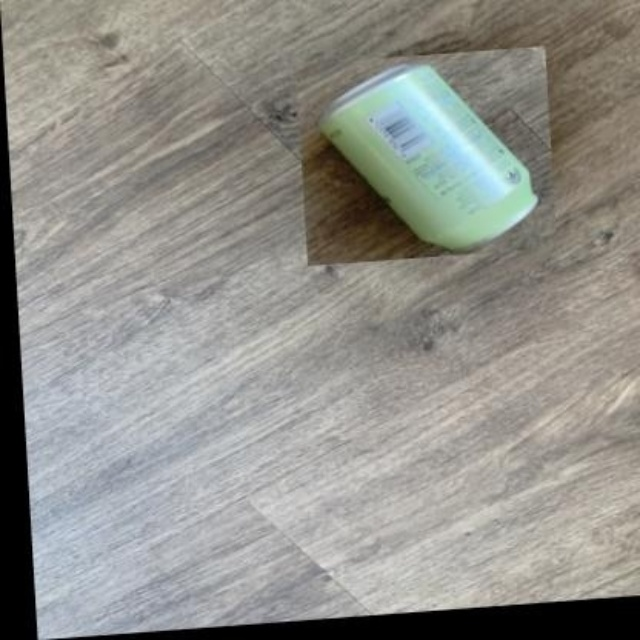trash: (320, 63, 537, 248)
